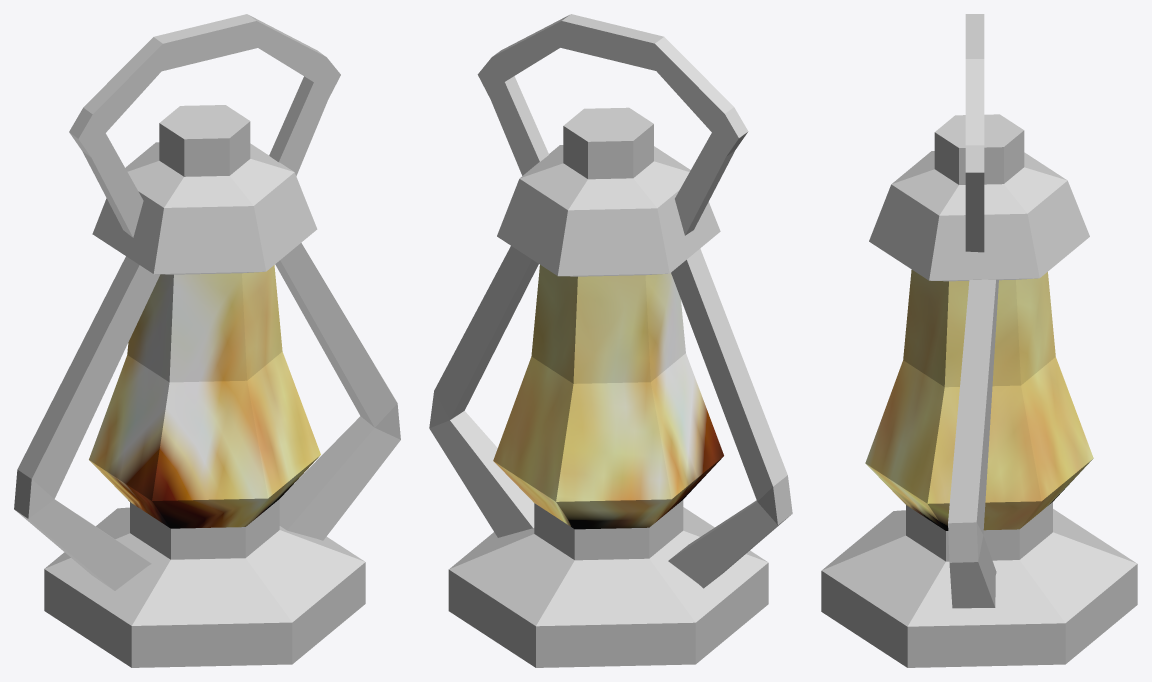
The model's file is HandHeldLantern.fbx.
3 views of the same model, side by side, from view 1: azimuth 30°, elevation 25°; view 2: azimuth 150°, elevation 25°; view 3: azimuth 270°, elevation 25° (orthographic).
Visible parts, largest first — view 1: Circle.059; view 2: Circle.059; view 3: Circle.059.
Boxes of the visible parts, bbox=[...] form: Circle.059: bbox=[14, 14, 400, 667]; Circle.059: bbox=[429, 14, 792, 667]; Circle.059: bbox=[821, 14, 1137, 667].
Bounding box in the file's own units: 30.44 × 46.69 × 23.42.
